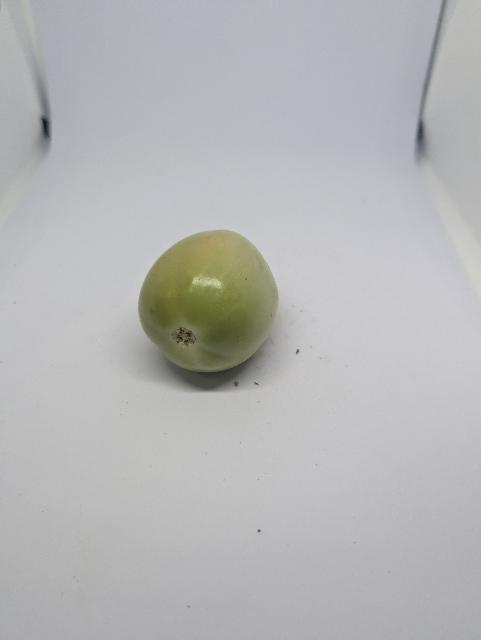green: (112, 215, 309, 397)
